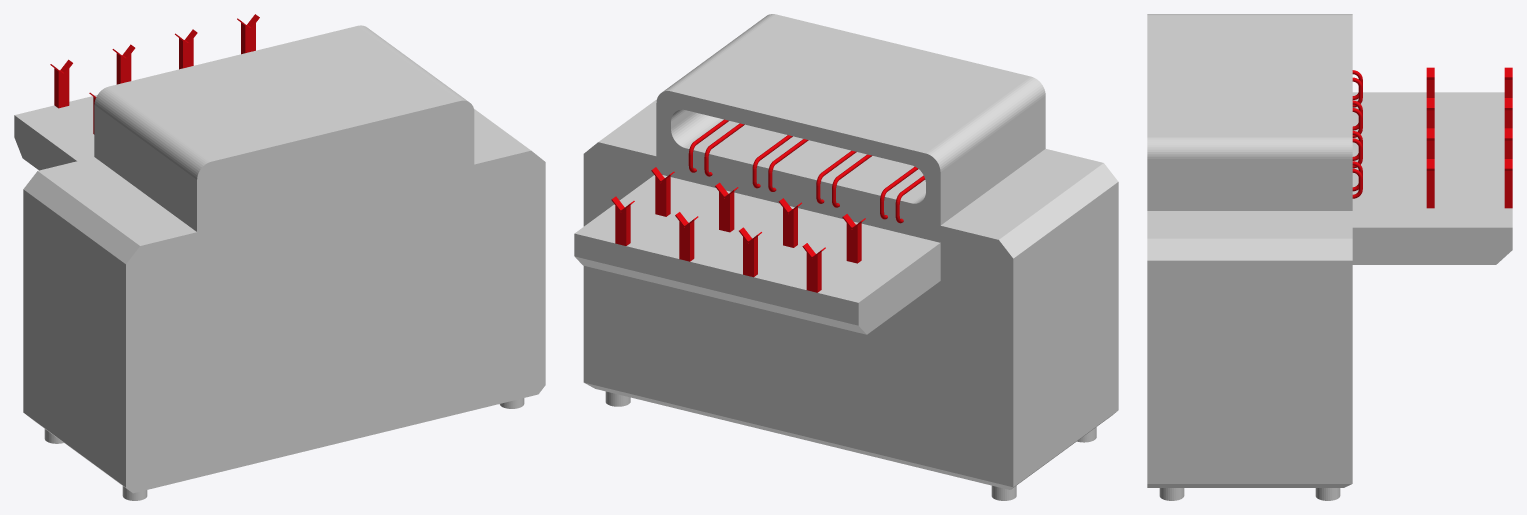
File: печь.fbx
3 views of the same model, side by side, from view 1: azimuth 30°, elevation 25°; view 2: azimuth 150°, elevation 25°; view 3: azimuth 270°, elevation 25° (orthographic). The views are drawn at different scales.
Parts seen in each view (by area): view 1: Нагреватель; view 2: Нагреватель; view 3: Нагреватель.
Boxes of the visible parts, x1=… form: Нагреватель: x1=14, y1=14, x2=545, y2=500; Нагреватель: x1=574, y1=14, x2=1118, y2=500; Нагреватель: x1=1147, y1=14, x2=1512, y2=500.
Size of the model in its own units: 1.18 by 0.88 by 0.89.
